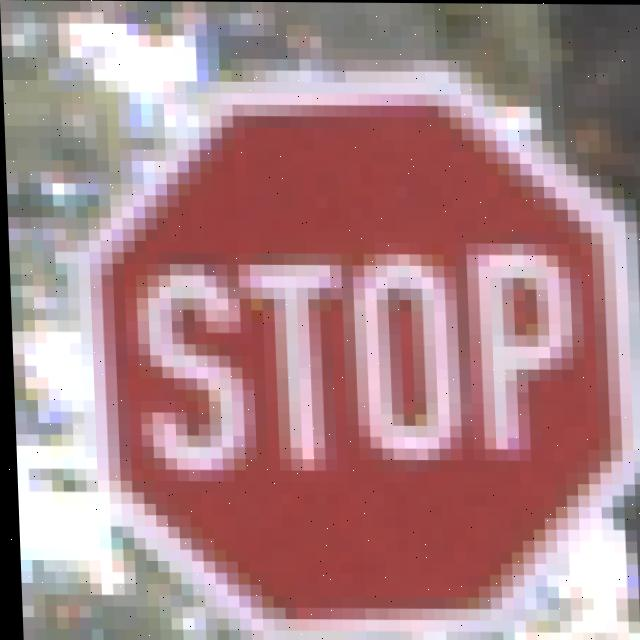stop: (84, 43, 638, 611)
